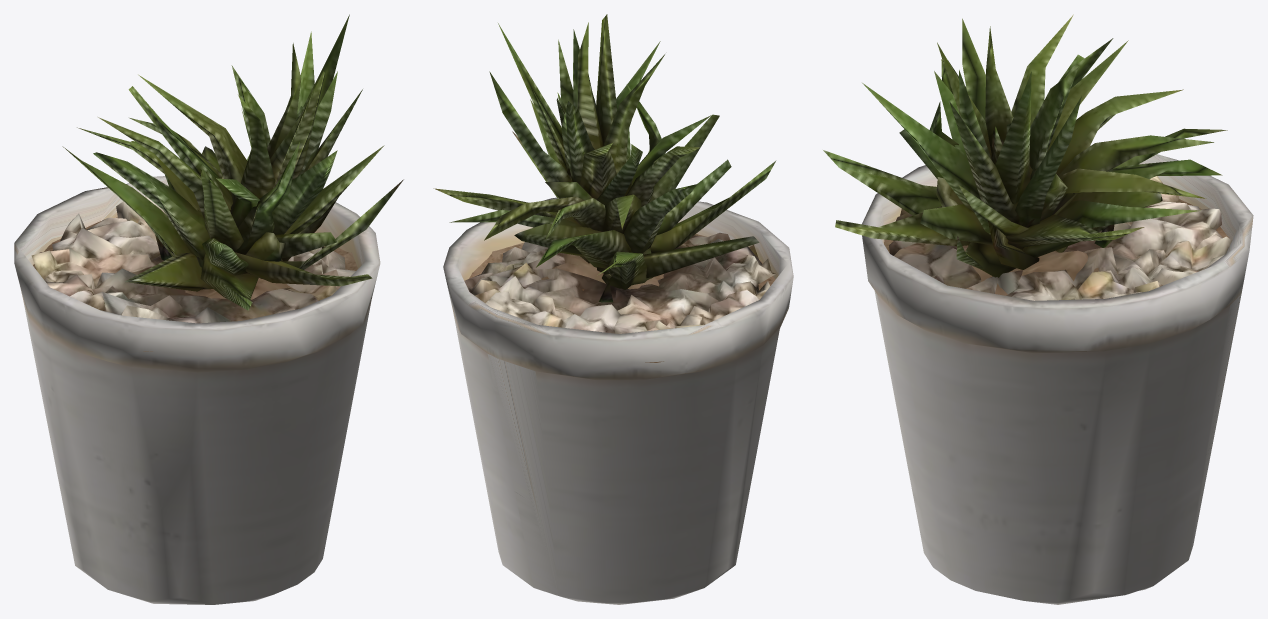
The model's file is potted_plant_04.glb.
The picture shows the model from 3 angles, left to right: view 1: azimuth 30°, elevation 25°; view 2: azimuth 150°, elevation 25°; view 3: azimuth 270°, elevation 25°; orthographic projection. The views are drawn at different scales.
Visible parts, largest first — view 1: potted_plant_04_ground; view 2: potted_plant_04_ground; view 3: potted_plant_04_ground.
Part boxes in pixels (bbox=[...]): potted_plant_04_ground: bbox=[14, 14, 403, 604]; potted_plant_04_ground: bbox=[433, 14, 793, 604]; potted_plant_04_ground: bbox=[823, 14, 1253, 604].
Bounding box in the file's own units: 0.1672 × 0.2625 × 0.1825.
Materials: 1 (1 with a texture image).
